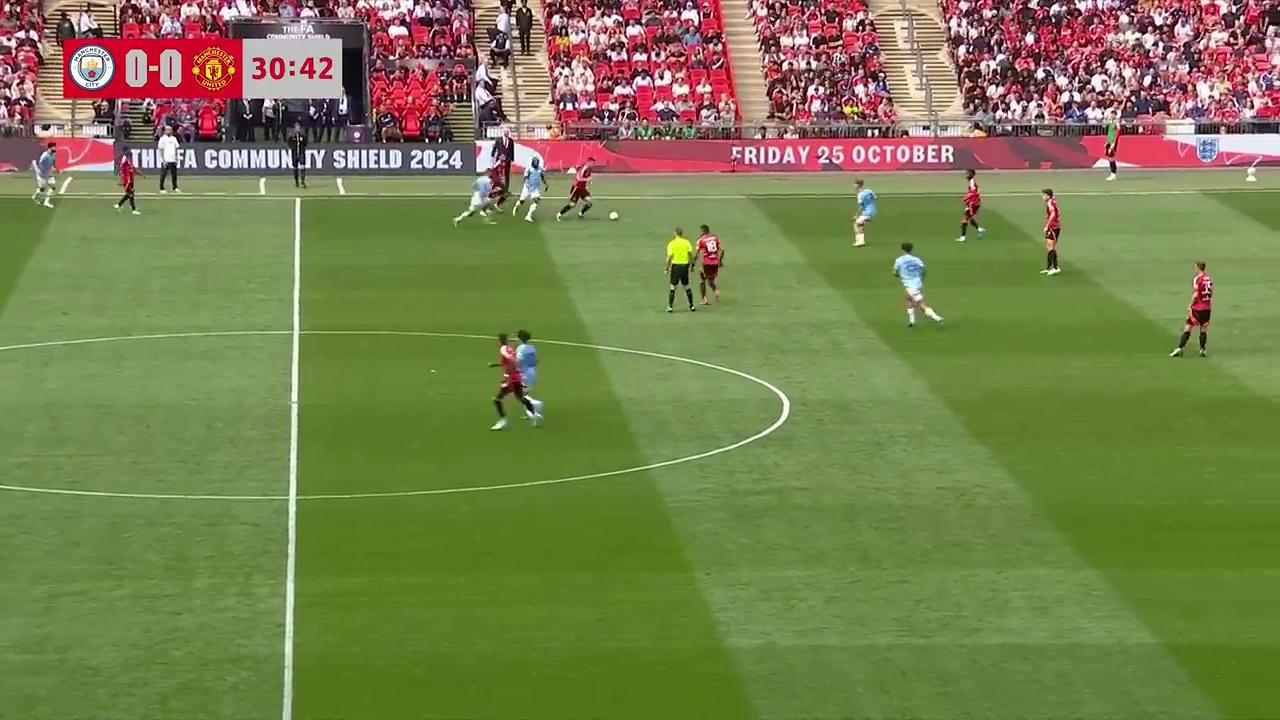ball: (855, 229, 865, 246), (607, 207, 619, 220)
player: (892, 242, 943, 329), (1170, 261, 1214, 358), (488, 331, 523, 430), (516, 323, 546, 416), (556, 159, 597, 220), (693, 225, 724, 304), (454, 171, 497, 226), (956, 172, 985, 242), (510, 164, 544, 222), (1040, 188, 1061, 274), (852, 179, 878, 248), (34, 142, 57, 213), (114, 154, 139, 214), (487, 160, 510, 218)
referee: (665, 228, 695, 313)
